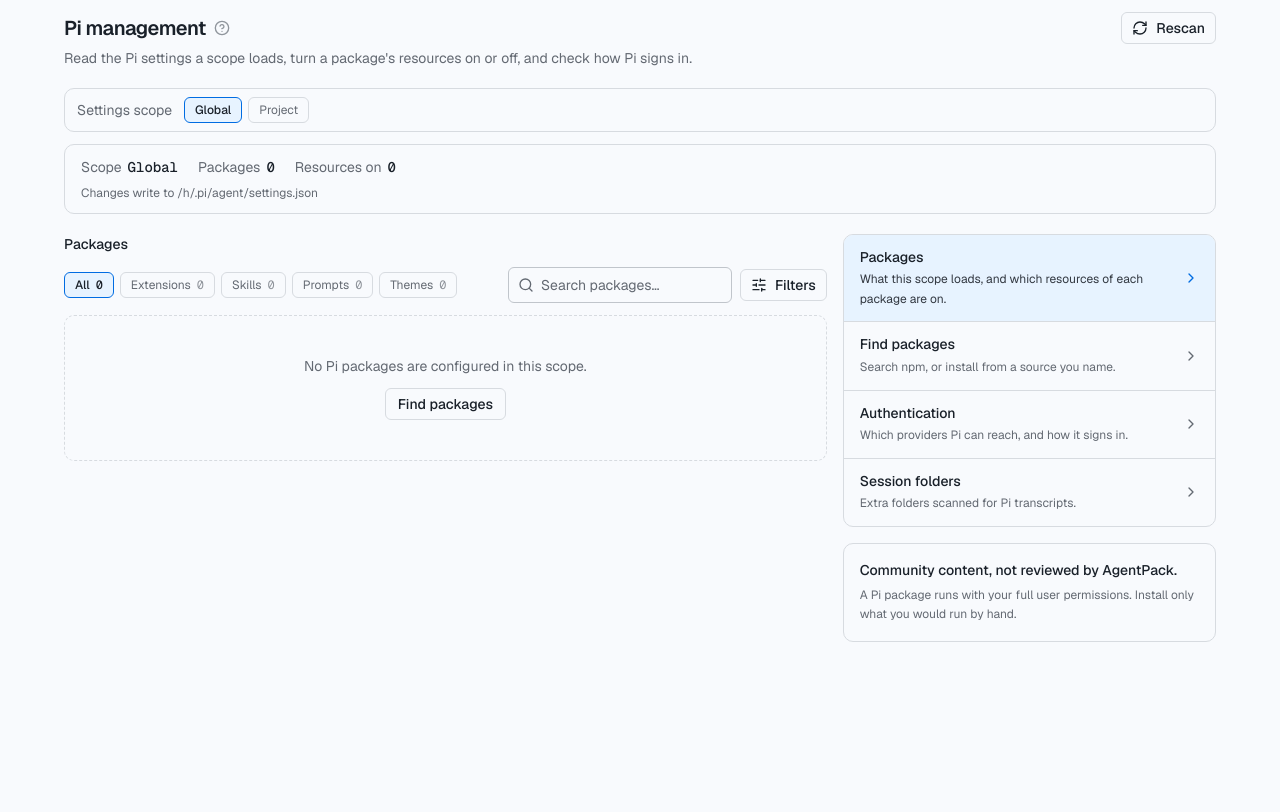
Test case: offers the search when a scope has no packages at all
Expected: the text "No Pi packages are configured in this scope." is shown, [304,356,587,376]
Step 1. Click the button "Find packages" → click(445, 404), box [385,388,506,420]
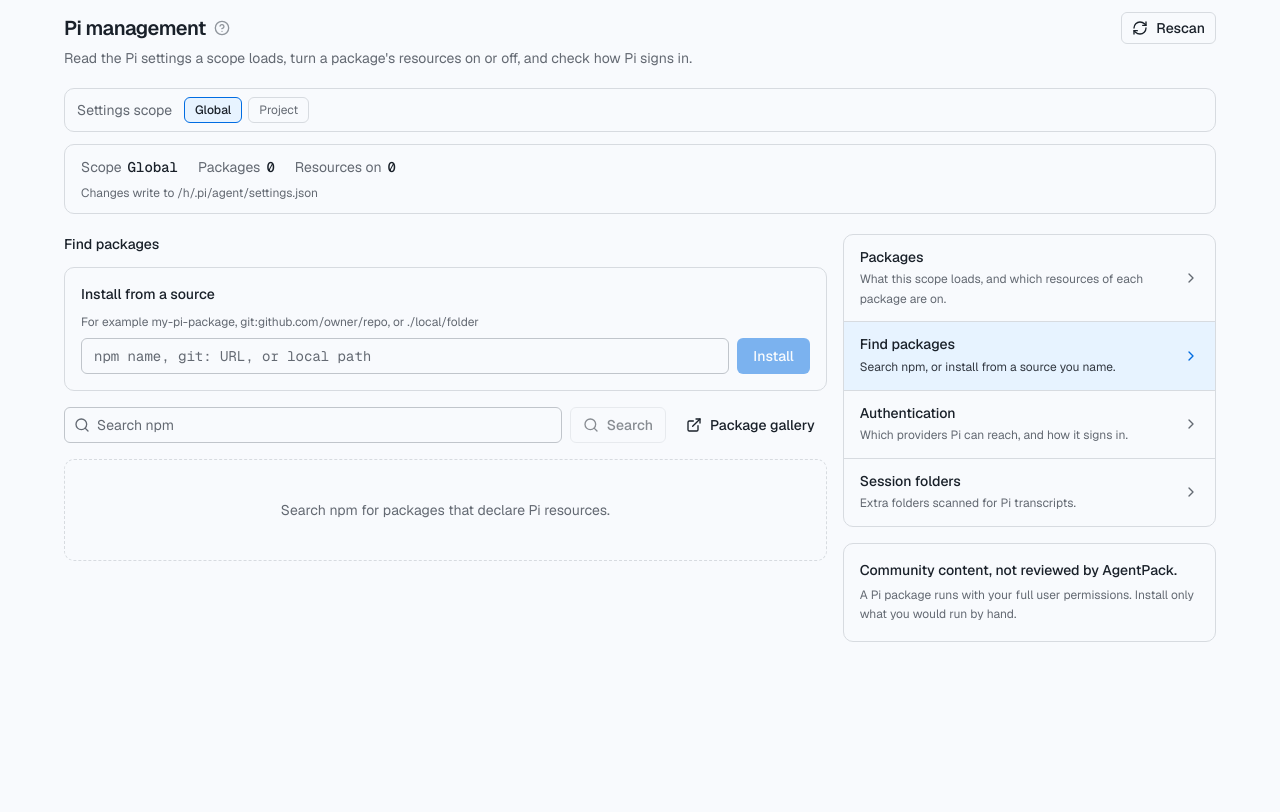
Expected: the heading "Install from a source" is shown, [81,285,215,303]
